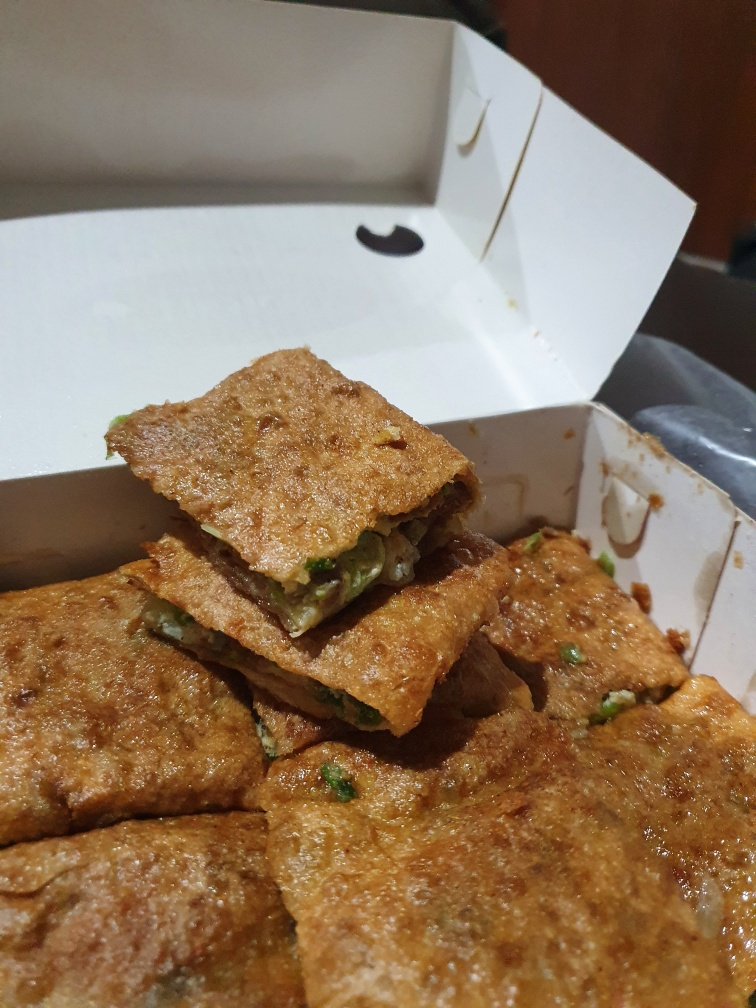martabak telor: (93, 348, 492, 578), (137, 512, 514, 750), (275, 795, 691, 1008), (1, 580, 268, 813), (1, 811, 300, 1003)
